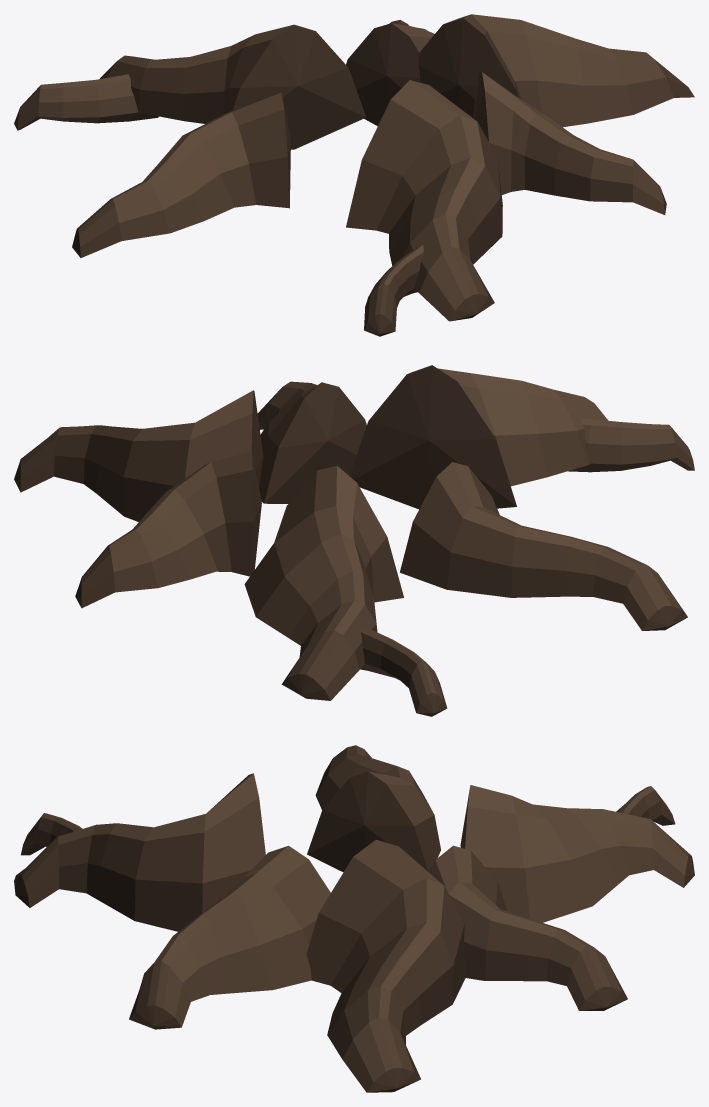
Rendered from root_flare_A.glb.
The picture shows the model from 3 angles, top to bottom: view 1: azimuth 30°, elevation 25°; view 2: azimuth 150°, elevation 25°; view 3: azimuth 270°, elevation 25°; orthographic projection. The views are drawn at different scales.
Visible parts, largest first — view 1: root_flare_A; view 2: root_flare_A; view 3: root_flare_A.
Boxes of the visible parts, box(x1,y1,x2,y2) form: root_flare_A: box(14, 14, 694, 336); root_flare_A: box(14, 365, 694, 716); root_flare_A: box(14, 745, 694, 1092).
Size of the model in its own units: 2.28 by 0.506 by 2.05.
